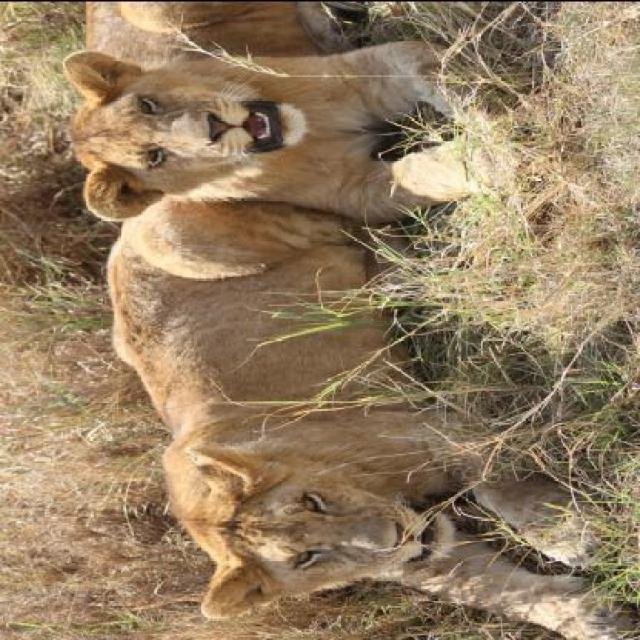Lion: (91, 223, 638, 632), (52, 1, 522, 217)
